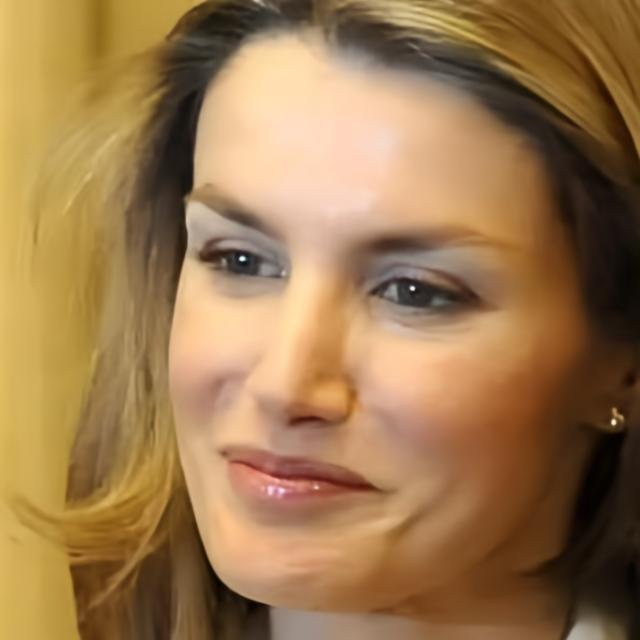content: (164, 18, 588, 614)
